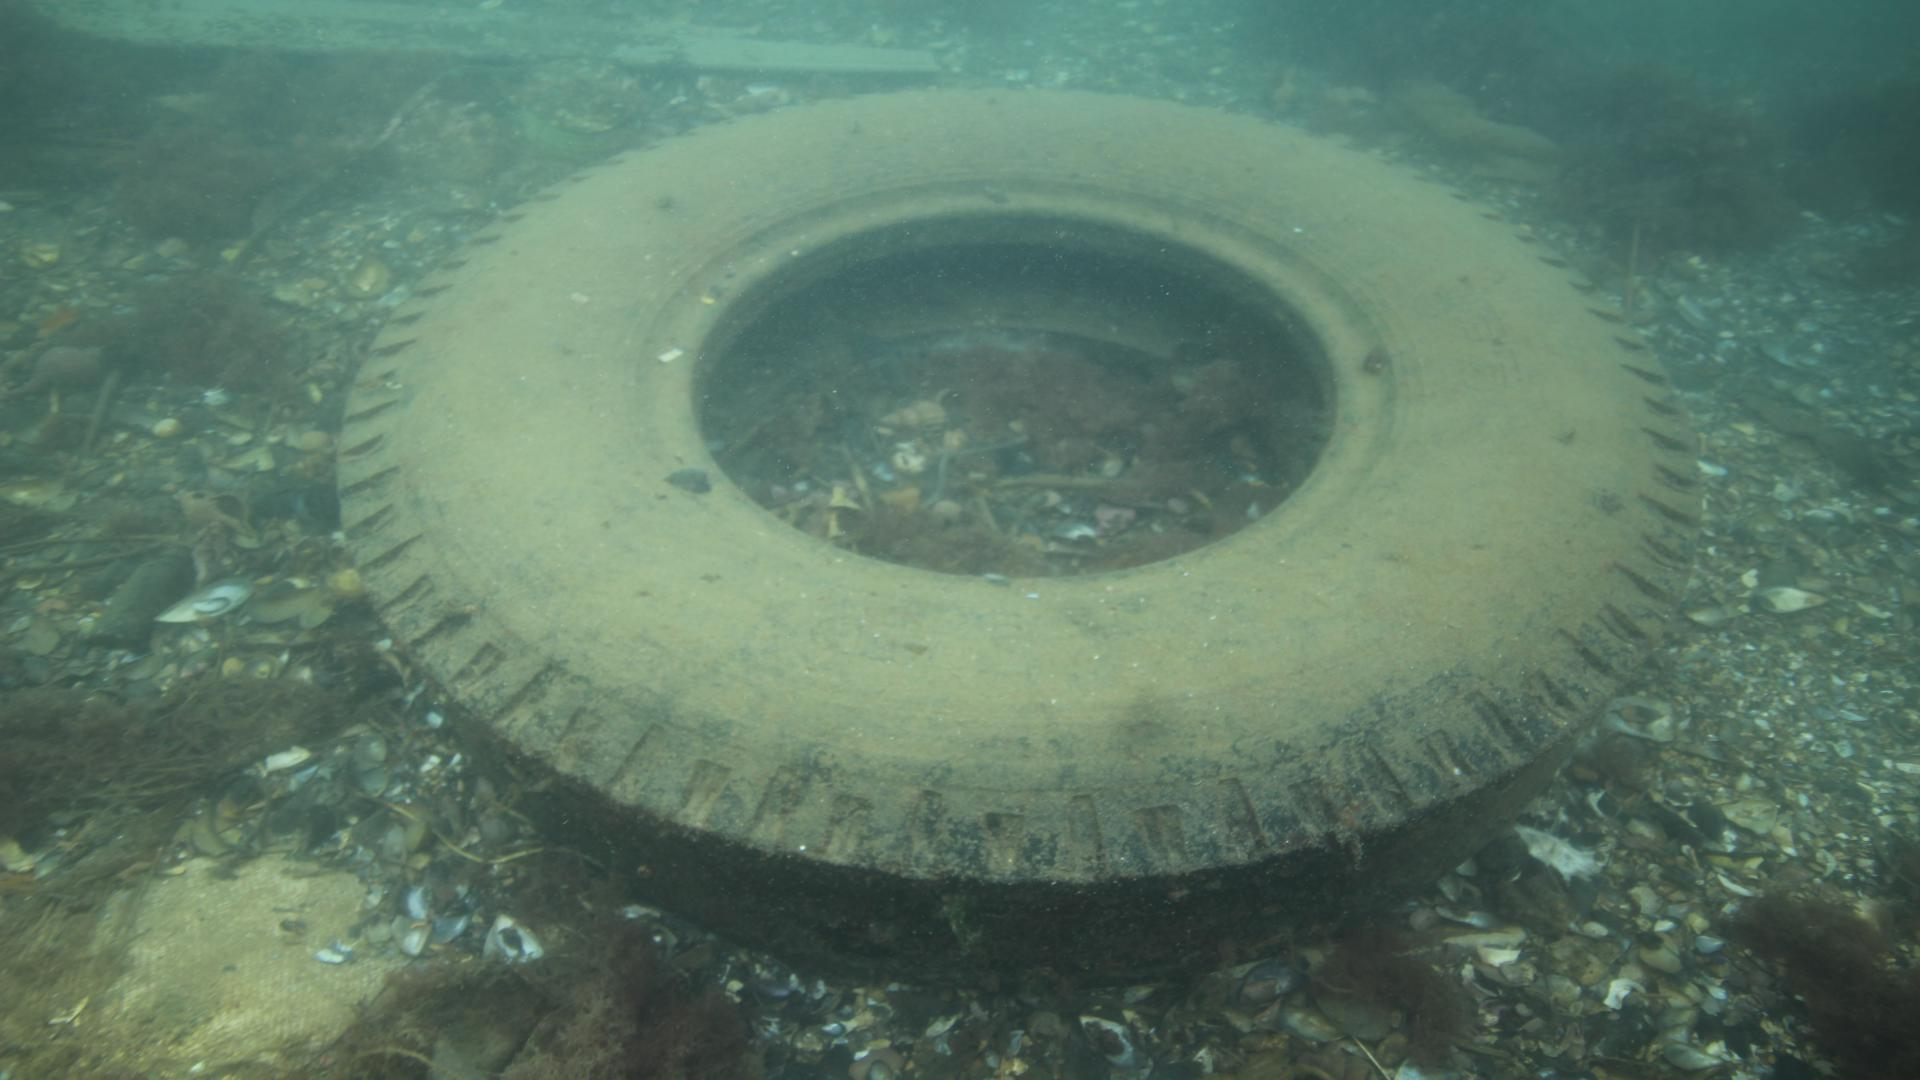tire: (334, 80, 1702, 1000)
